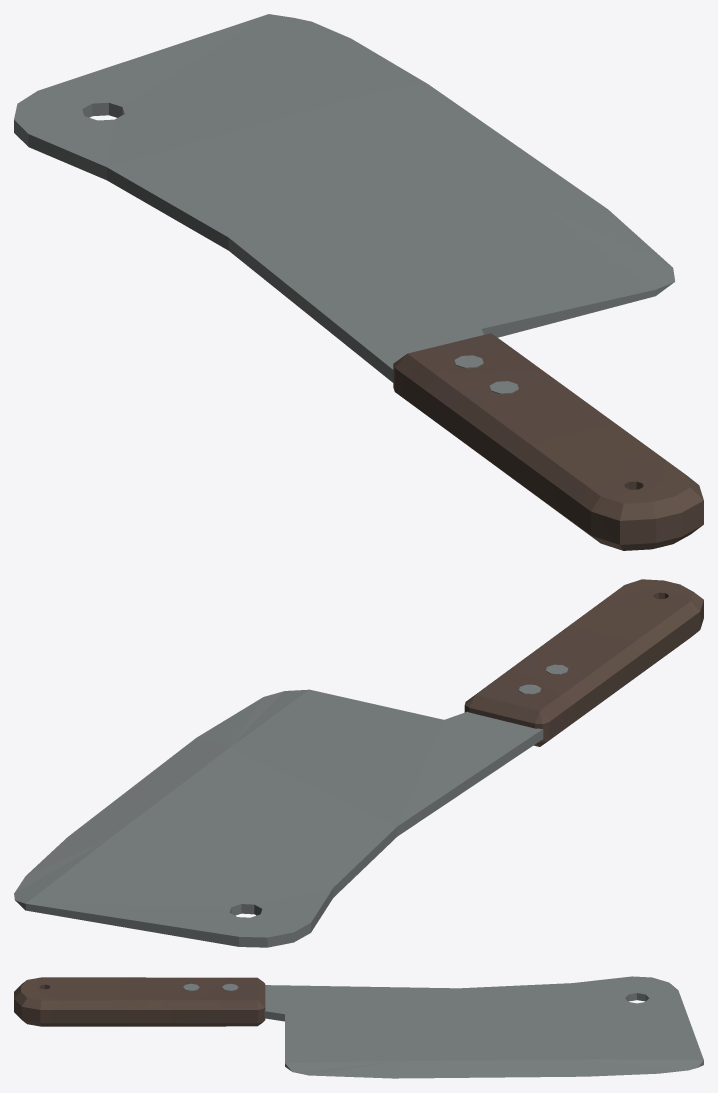
The model's file is scene_SpvuRcfCbK.glb.
3 views of the same model, one above another, from view 1: azimuth 30°, elevation 25°; view 2: azimuth 150°, elevation 25°; view 3: azimuth 270°, elevation 25° (orthographic). The views are drawn at different scales.
Parts seen in each view (by area): view 1: Butcher_Knife; view 2: Butcher_Knife; view 3: Butcher_Knife.
Part boxes in pixels (x1,y1,x2,y2): Butcher_Knife: (14,14,703,550); Butcher_Knife: (14,579,703,947); Butcher_Knife: (14,976,703,1078).
Size of the model in its own units: 0.299 by 0.0388 by 0.8854.
Materials: 1 (1 with a texture image).
